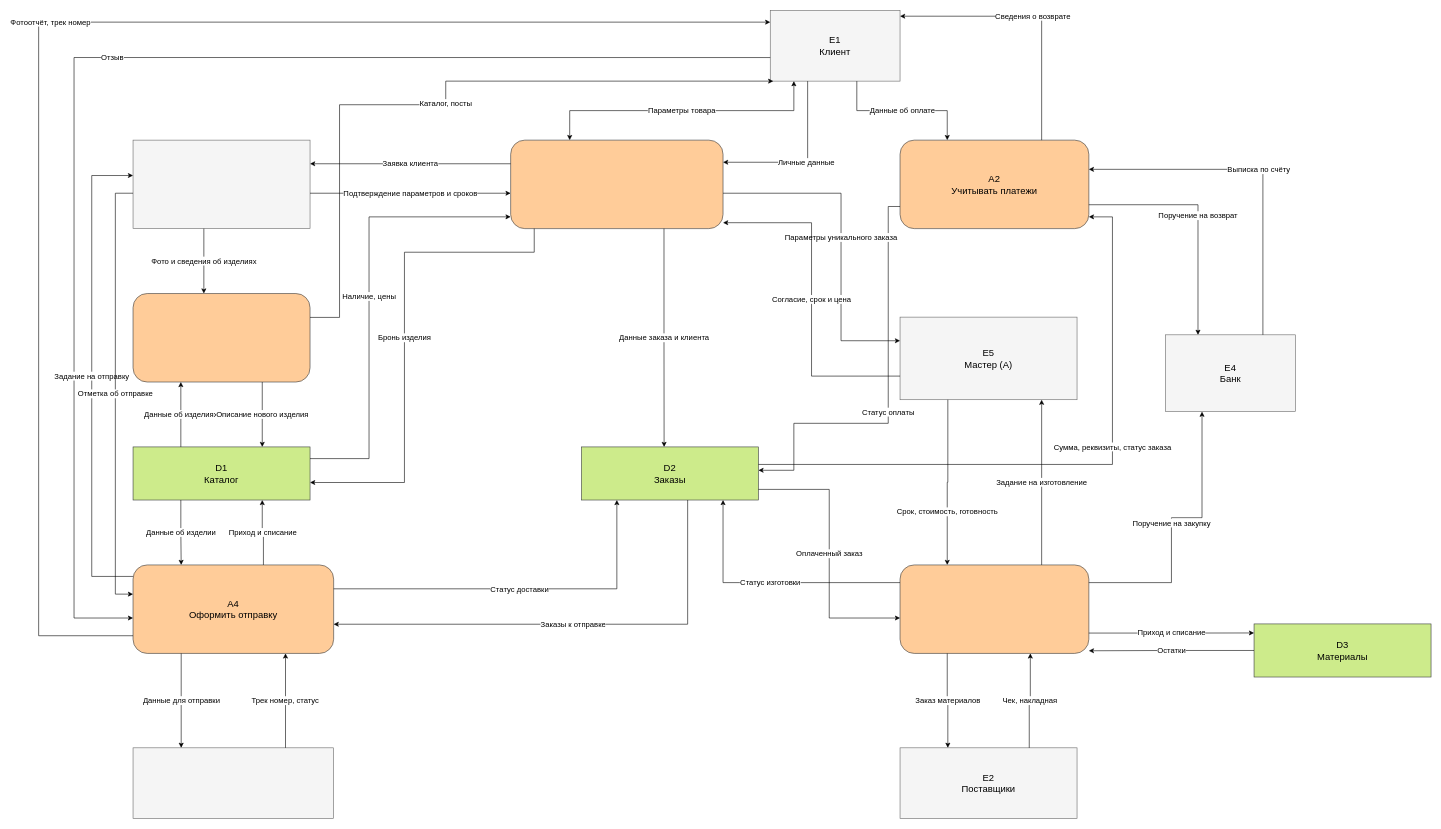
This 1441x829 diagram has some shape labels left out. The shapes that lost their labels are listed below. From the top down, each one's centre as x and y in pixels, then its label:
At pixel 221 184: "E6 Менеджер по работе с клиентами (Н)".
At pixel 616 184: "A1 Принять и согласовать заказ".
At pixel 221 337: "A5 Вести витрину магазина".
At pixel 994 608: "A3 Управлять изготовлением".
At pixel 233 783: "E3 Службы доставки".
